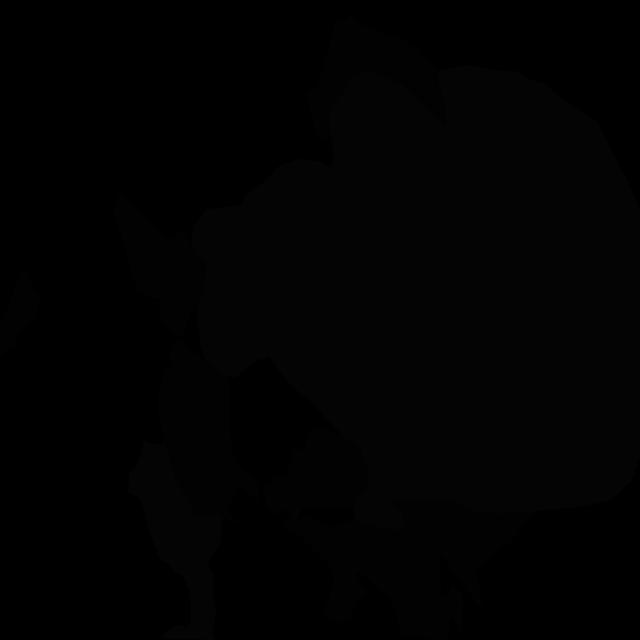cardboard: (282, 500, 537, 640), (158, 340, 260, 525), (306, 14, 446, 139), (113, 195, 206, 337), (264, 426, 368, 522), (0, 269, 42, 358)
soft_plastic: (191, 65, 640, 530), (128, 440, 223, 640)
